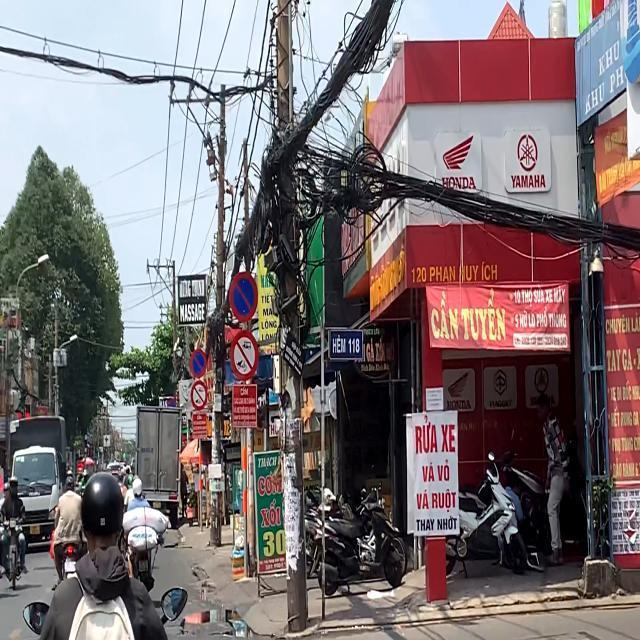131a-cam-do-xe: (228, 271, 260, 321), (188, 350, 208, 378)
